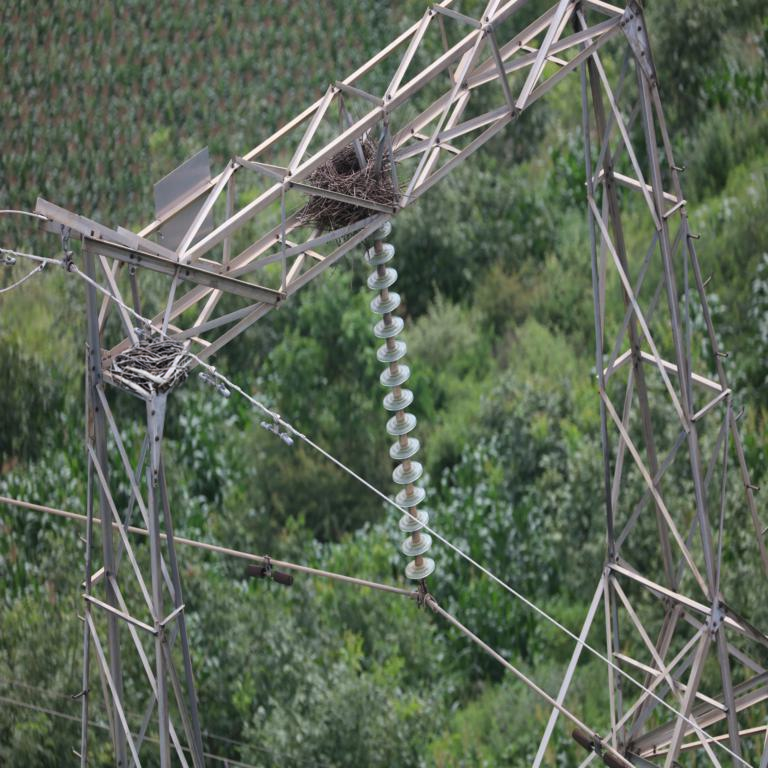nest: (306, 144, 399, 225), (116, 335, 189, 389)
